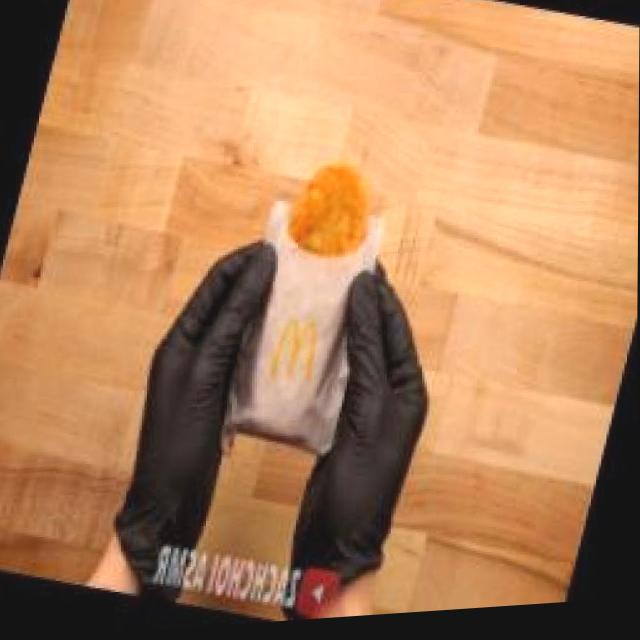Hashbrown: (268, 142, 394, 304)
